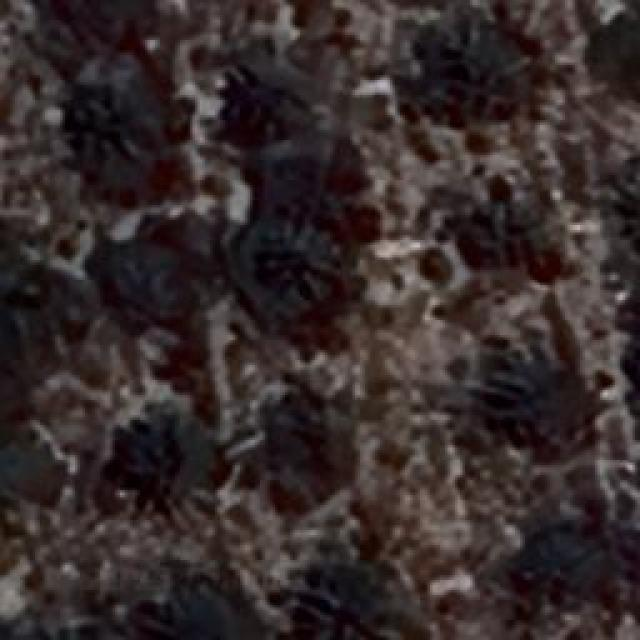PalmTree: (43, 55, 618, 100), (417, 2, 535, 126), (234, 214, 344, 326), (249, 382, 349, 498), (465, 344, 565, 446), (280, 564, 410, 638), (72, 58, 156, 156), (110, 408, 195, 500), (114, 584, 242, 638), (105, 238, 183, 322), (281, 139, 362, 217), (225, 52, 300, 120), (522, 536, 602, 599), (0, 432, 42, 532), (60, 0, 148, 42), (0, 258, 42, 337), (613, 157, 640, 263), (4, 615, 106, 640), (622, 162, 640, 262), (2, 623, 107, 640), (628, 164, 640, 263)
